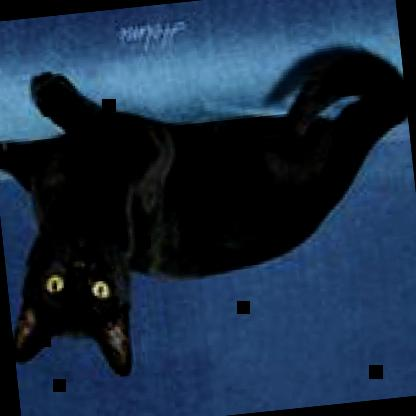cat: (0, 34, 415, 390)
